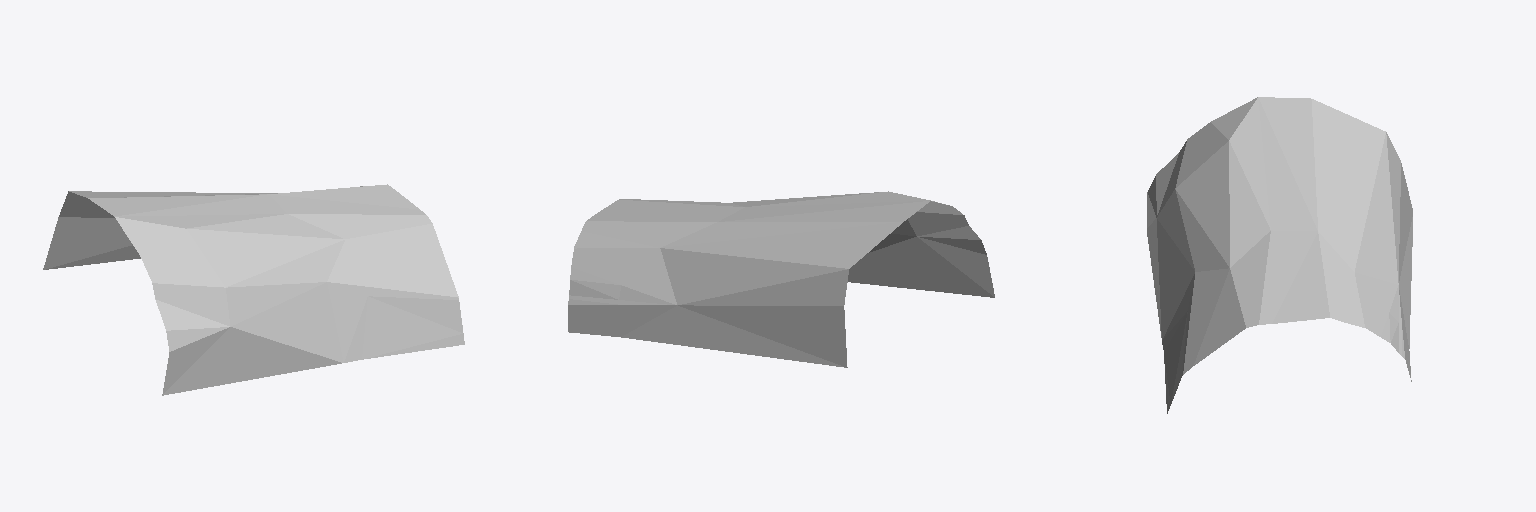
File: HAND_new_33.obj
3 renders of one model, left to right at view 1: azimuth 30°, elevation 25°; view 2: azimuth 150°, elevation 25°; view 3: azimuth 270°, elevation 25°, orthographic.
Bounding box in the file's own units: 14.39 × 7.24 × 10.36.